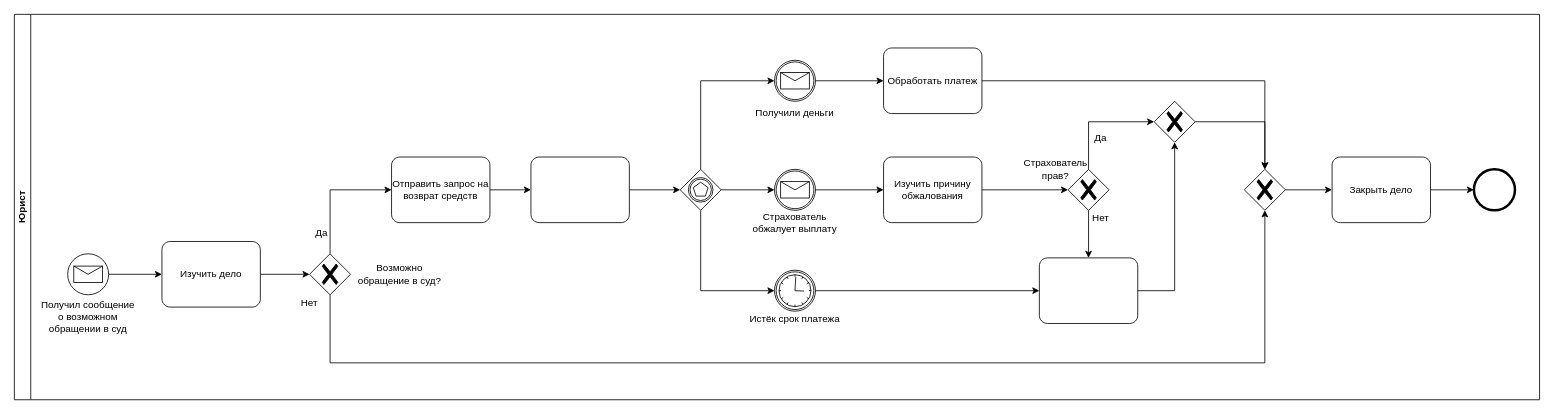
Image size: 1554x414. Some labels were removed from this diagram. Here are the shapes that lost their labels. From the top down, the centre of each, then its label:
At [579,189]: "Назначить дату платежа".
At [1088,290]: "Передать дело в коллекторское агенство".
